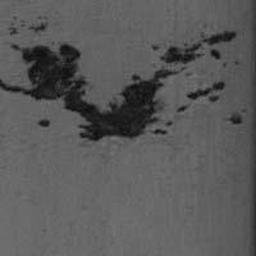Inclusion: (0, 29, 239, 141), (9, 13, 50, 36), (187, 79, 227, 101), (228, 109, 248, 125), (221, 58, 242, 69), (37, 119, 51, 128), (177, 104, 189, 114), (152, 44, 160, 52)
